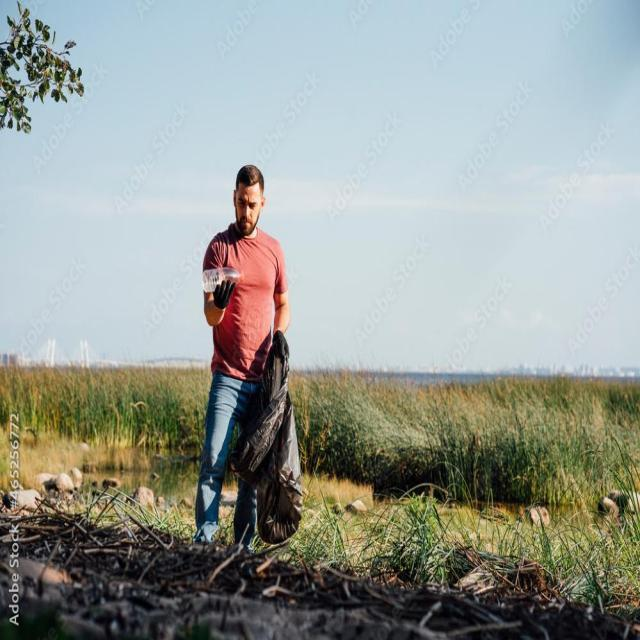Garbage_Bag: (239, 326, 308, 556)
